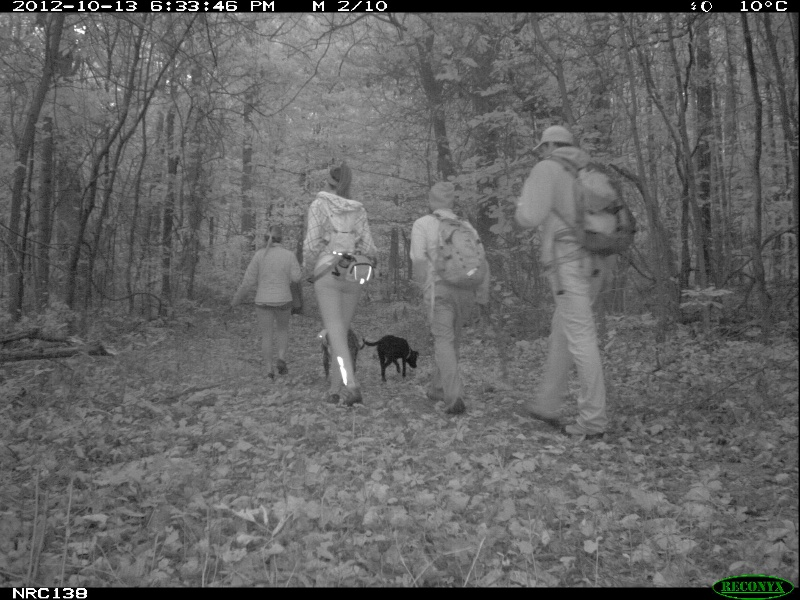dog: (373, 336, 422, 381), (315, 330, 365, 372)
human: (518, 123, 613, 444), (413, 179, 490, 417), (306, 164, 376, 410), (233, 224, 302, 382)
human legs: (533, 241, 613, 444), (312, 270, 364, 406), (425, 287, 471, 414), (256, 299, 291, 383)
